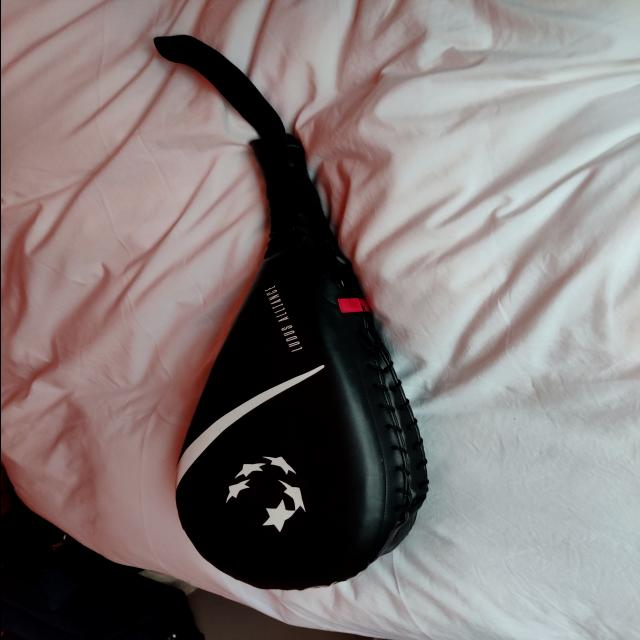paddle: (168, 130, 430, 594)
